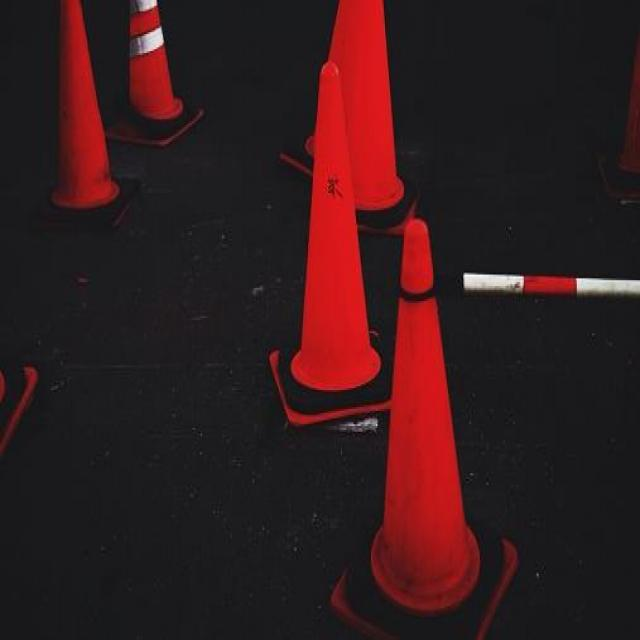Cone: (333, 218, 523, 640), (272, 61, 406, 422), (27, 2, 142, 235), (94, 2, 204, 149)
